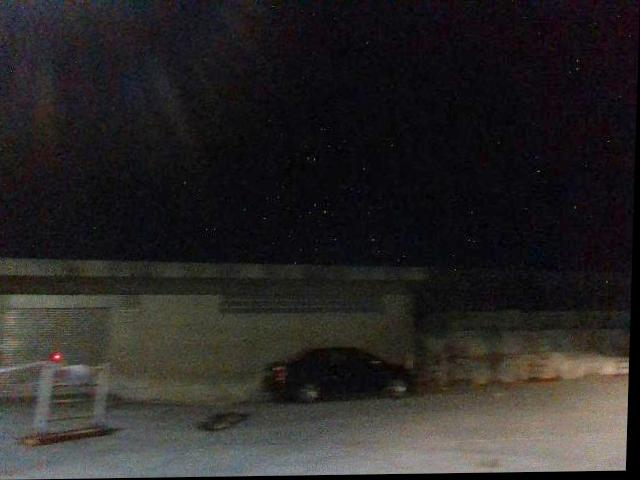pollute: (197, 408, 254, 436)
